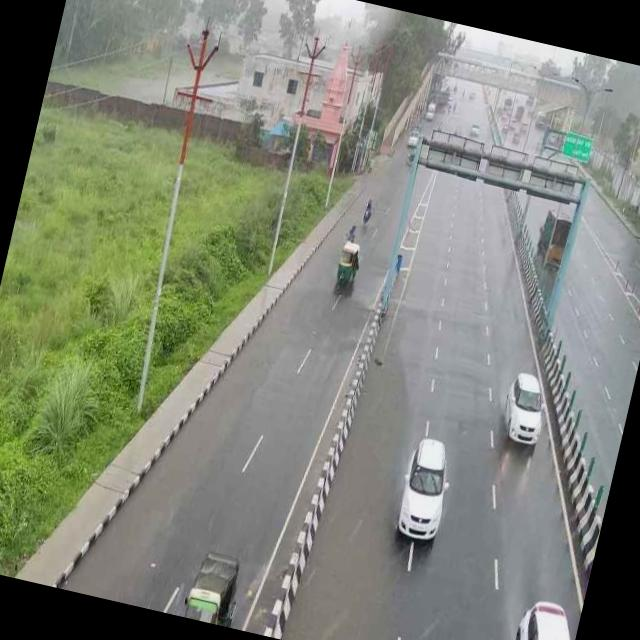car: (383, 425, 466, 557), (172, 535, 254, 628), (495, 364, 557, 454), (500, 589, 582, 640)
